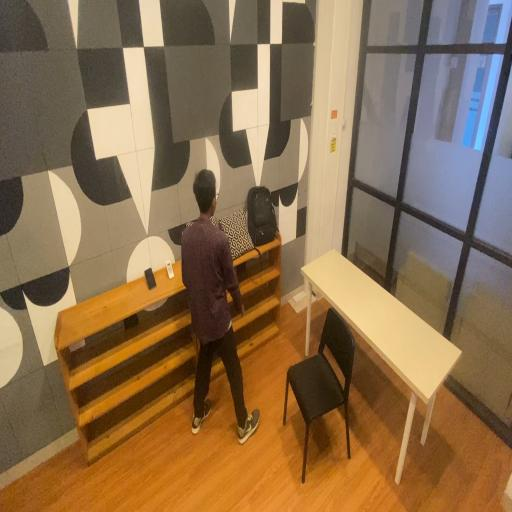bantal: (220, 206, 256, 263)
hp: (143, 259, 158, 296)
kursi: (280, 305, 357, 489)
lemari: (52, 252, 210, 471), (180, 215, 282, 384)
meja: (297, 241, 466, 497)
remote AC: (165, 252, 176, 288)
tas ransel: (247, 179, 281, 250)
